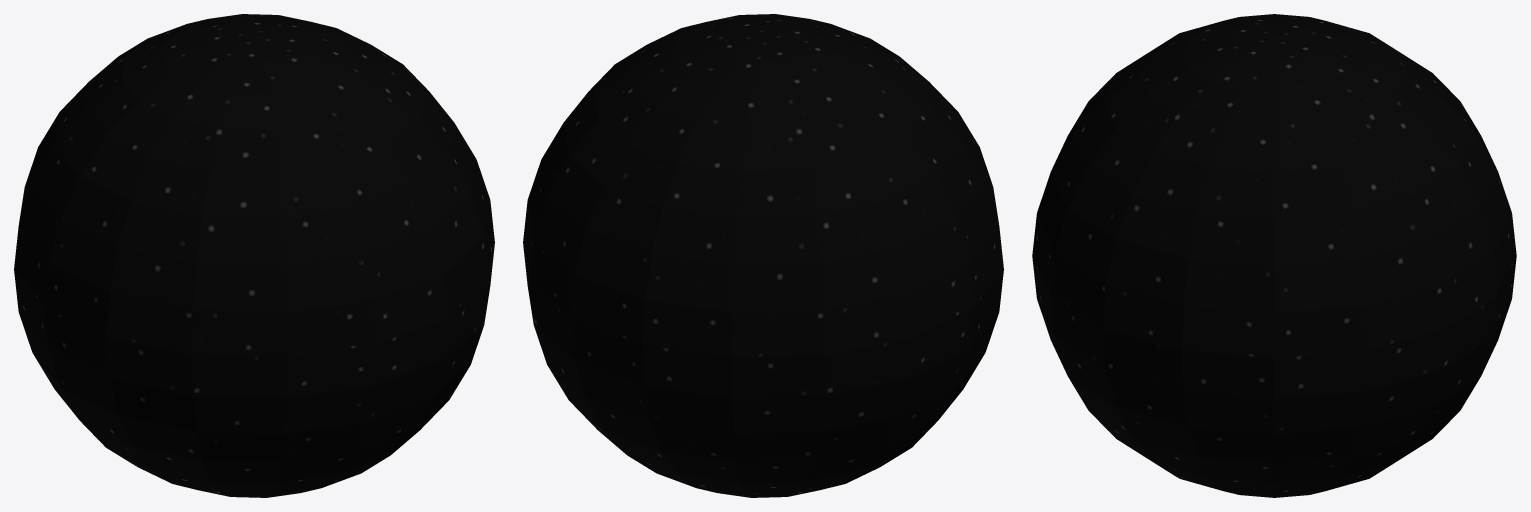
The model's file is Delorean.fbx.
3 views of the same model, side by side, from view 1: azimuth 30°, elevation 25°; view 2: azimuth 150°, elevation 25°; view 3: azimuth 270°, elevation 25° (orthographic).
Visible parts, largest first — view 1: Stars; view 2: Stars; view 3: Stars.
Part boxes in pixels (x1,y1,x2,y2): Stars: [14, 14, 494, 497]; Stars: [523, 14, 1003, 497]; Stars: [1032, 14, 1516, 497].
Size of the model in its own units: 2110 by 2110 by 2110.
